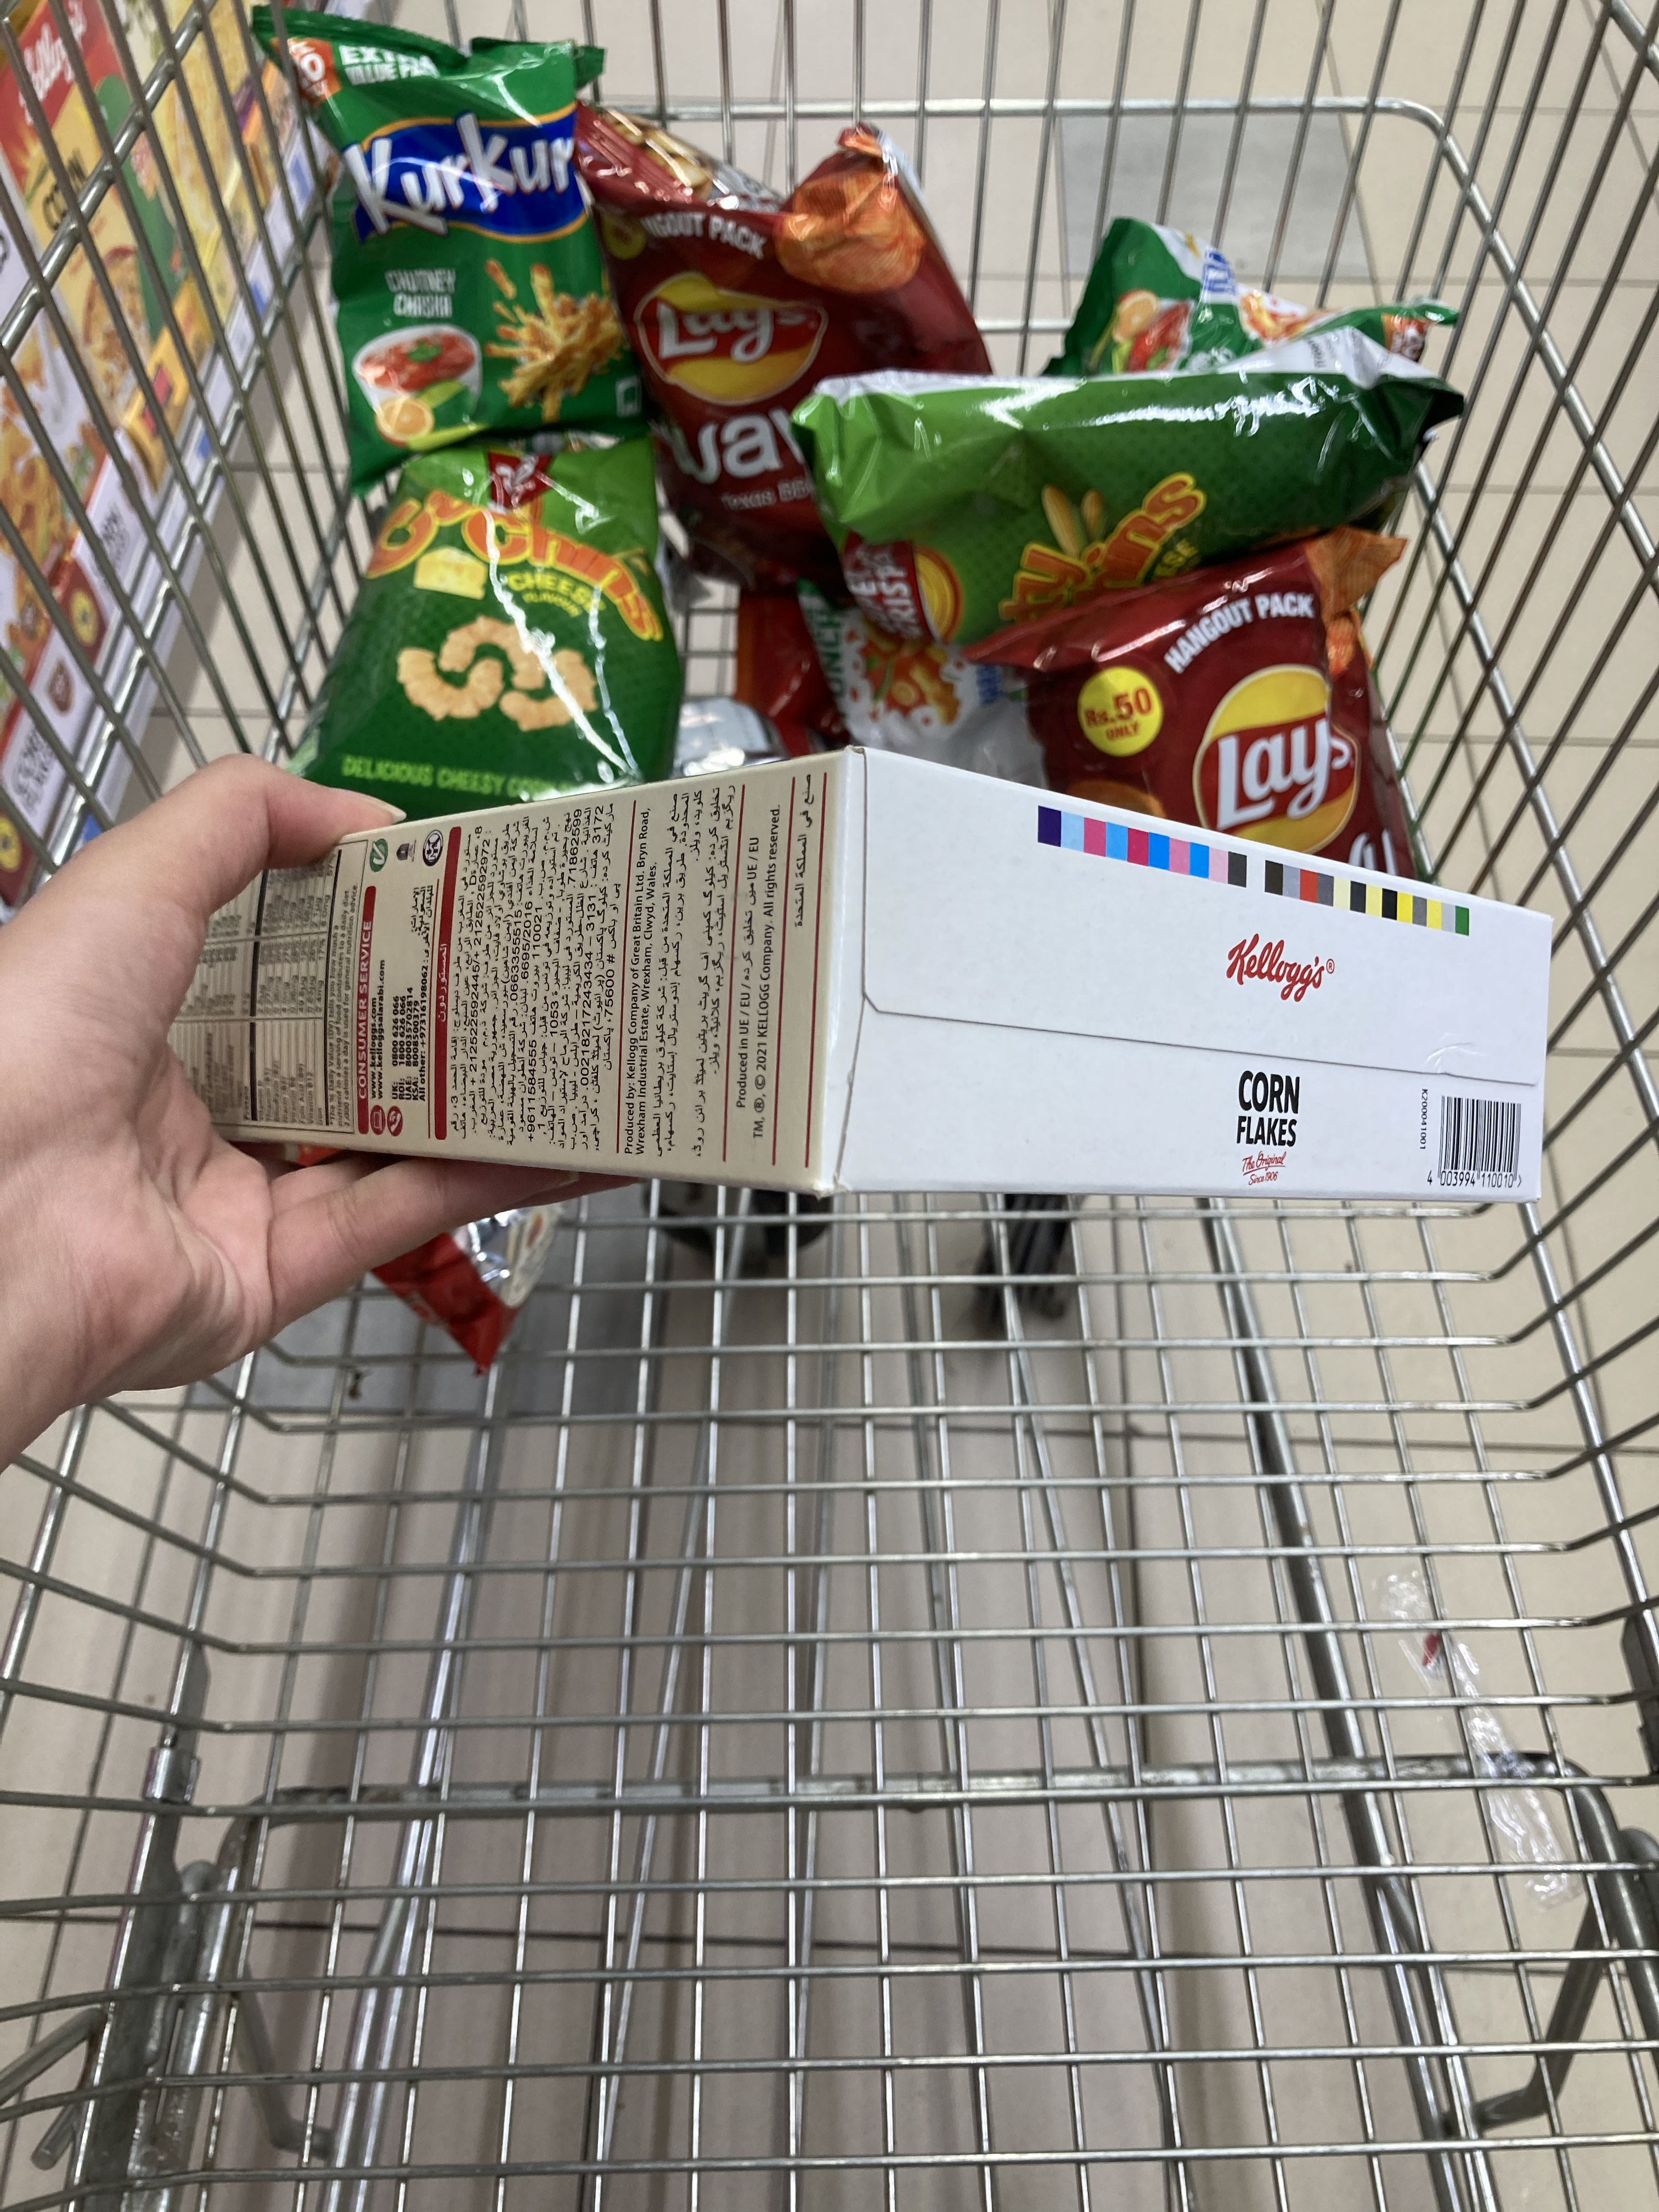Kellogg's Corn Flakes: (261, 742, 1551, 1216)
